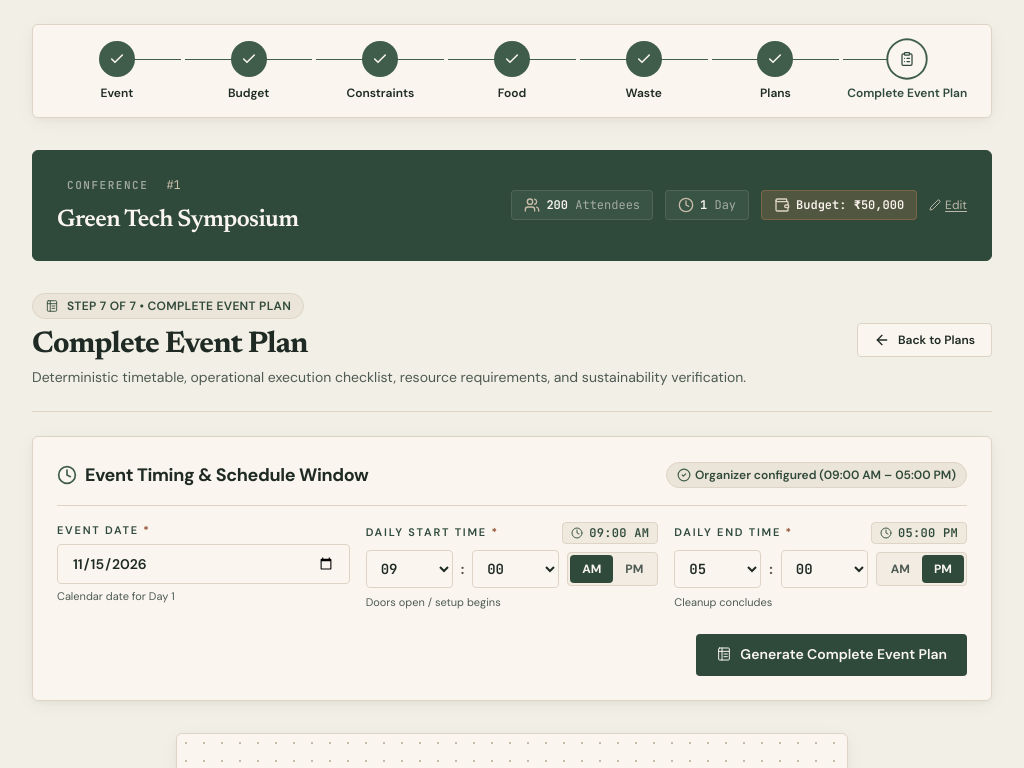
Test: Complete Event Plan (Phase 3 Frontend) › submits valid complete plan request with selected plan and event ID
Step 1. Click the button "Generate Complete Event Plan" → (832, 655), box [696,634,967,676]
(page scrolled)
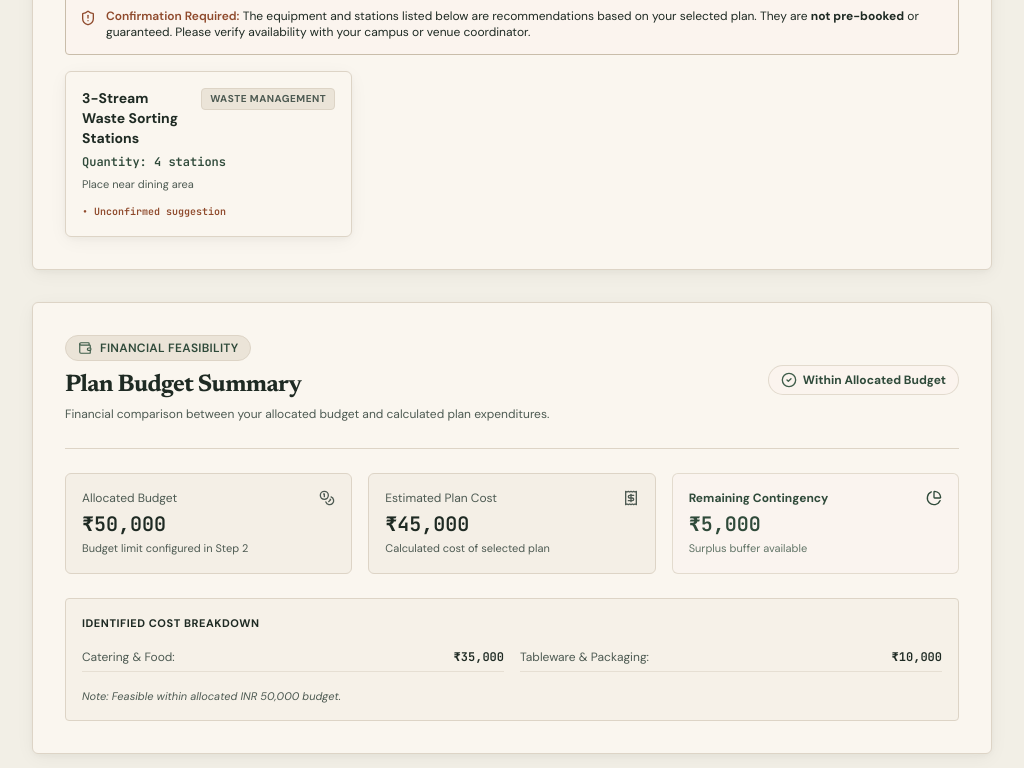
Check: the heading "Plan Budget Summary" is shown, box [65,373,301,397]
